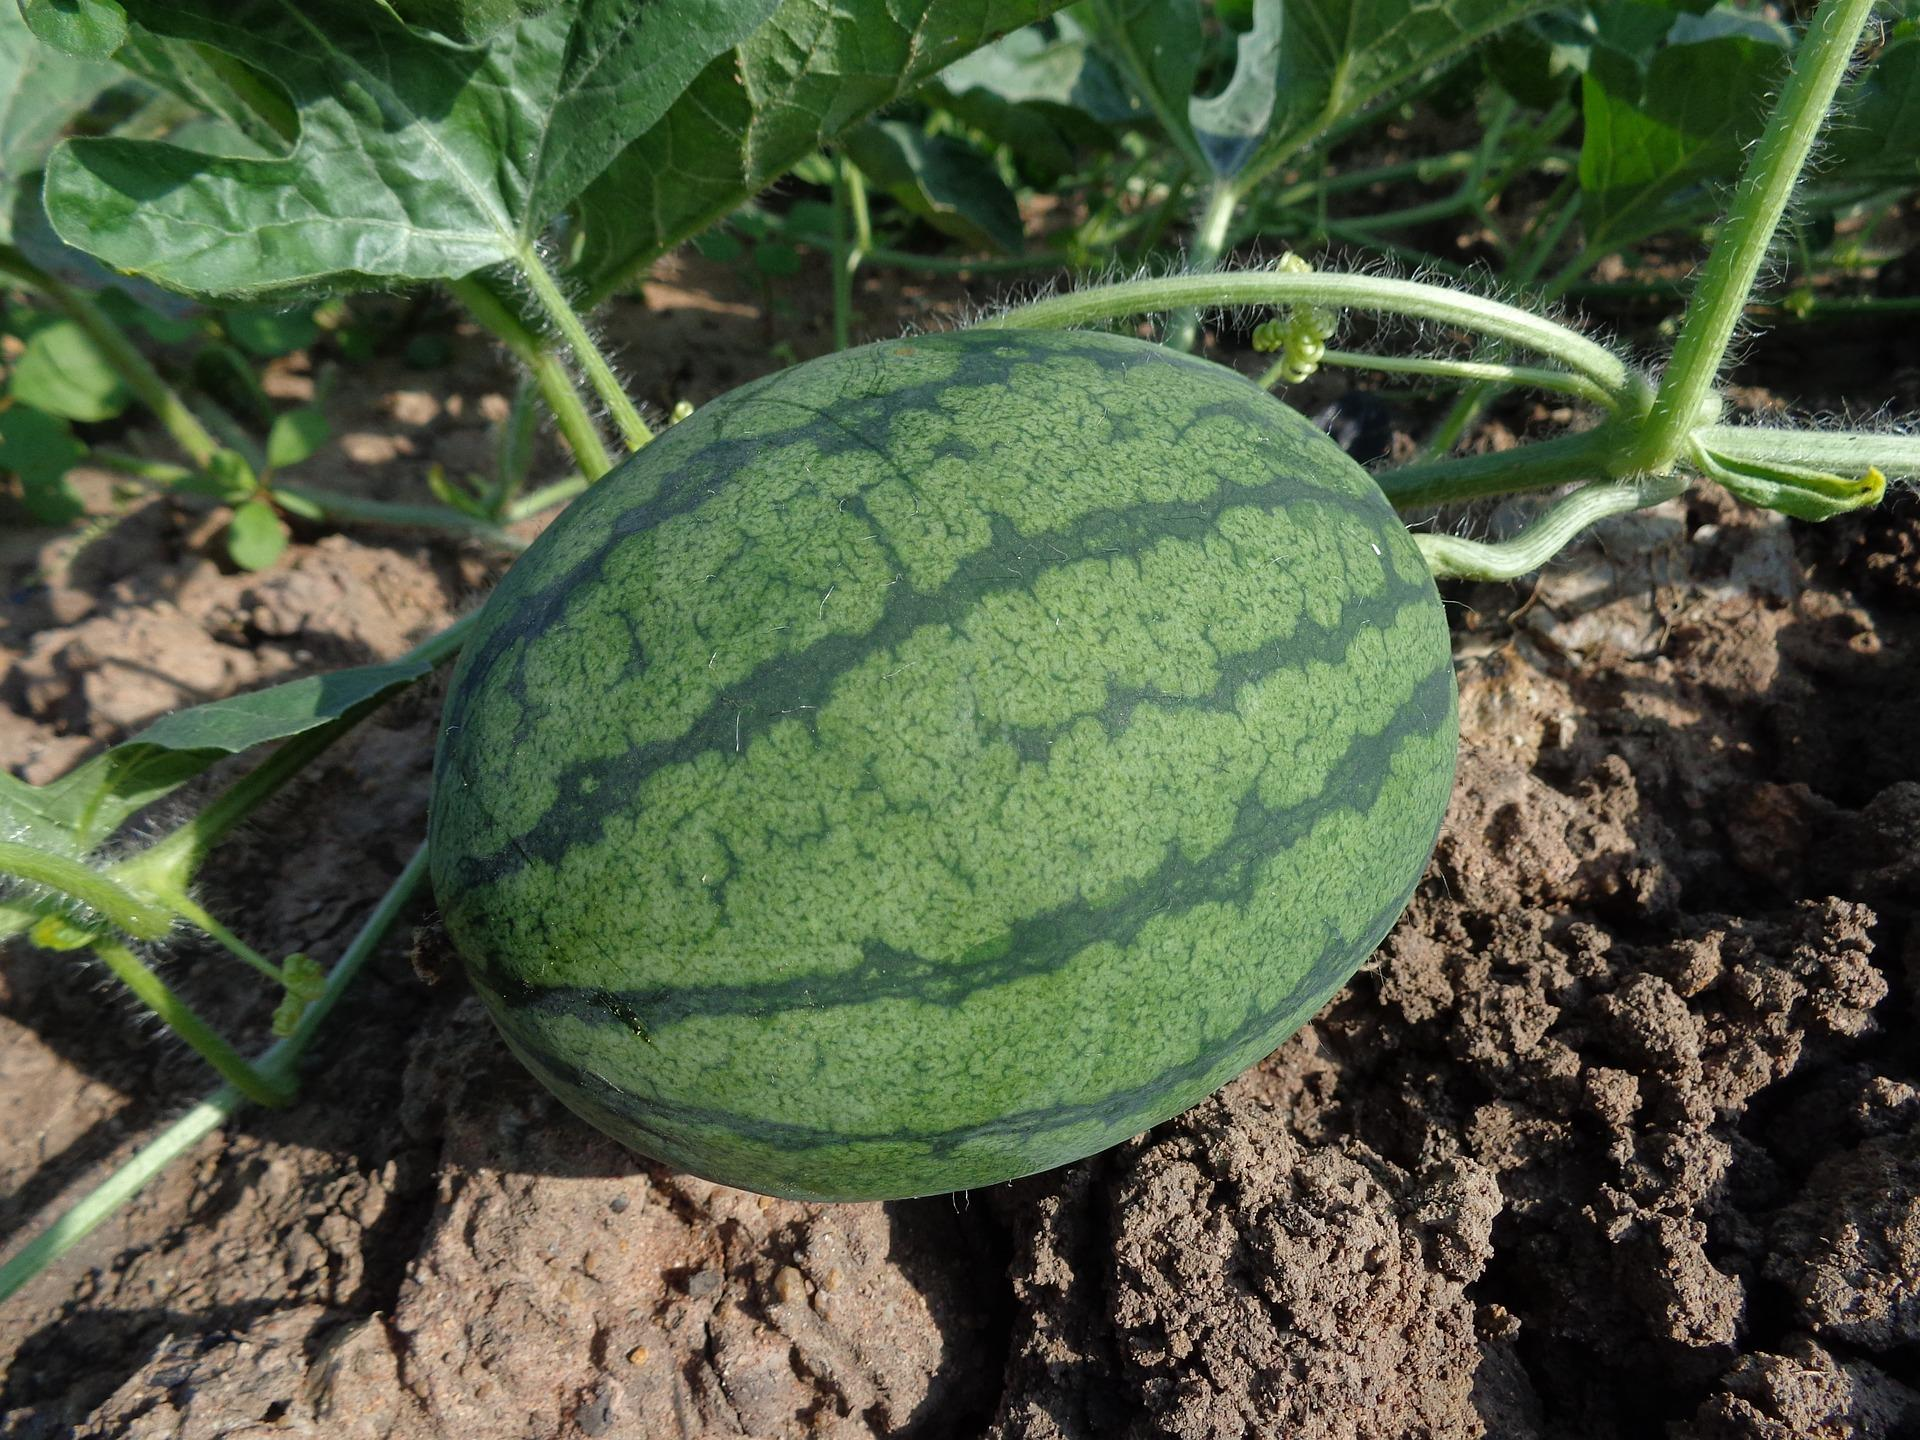watermelon: (382, 266, 1538, 1243)
